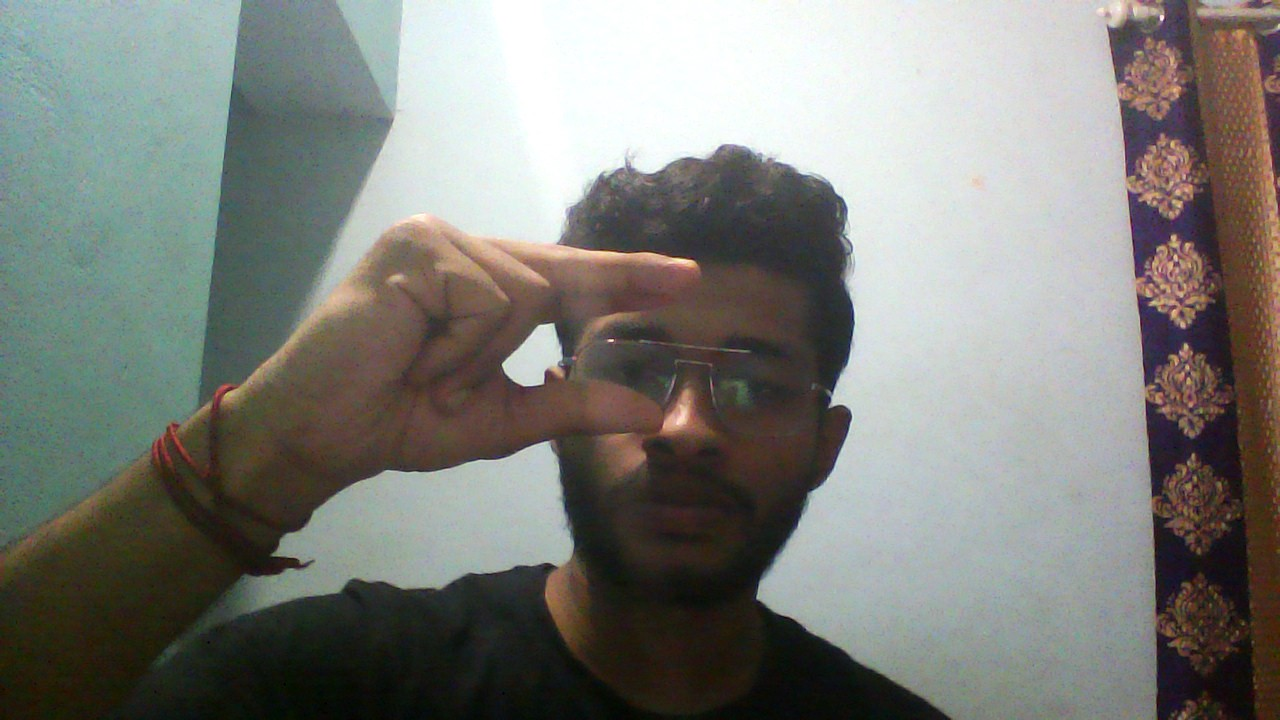No: (292, 213, 704, 479)
